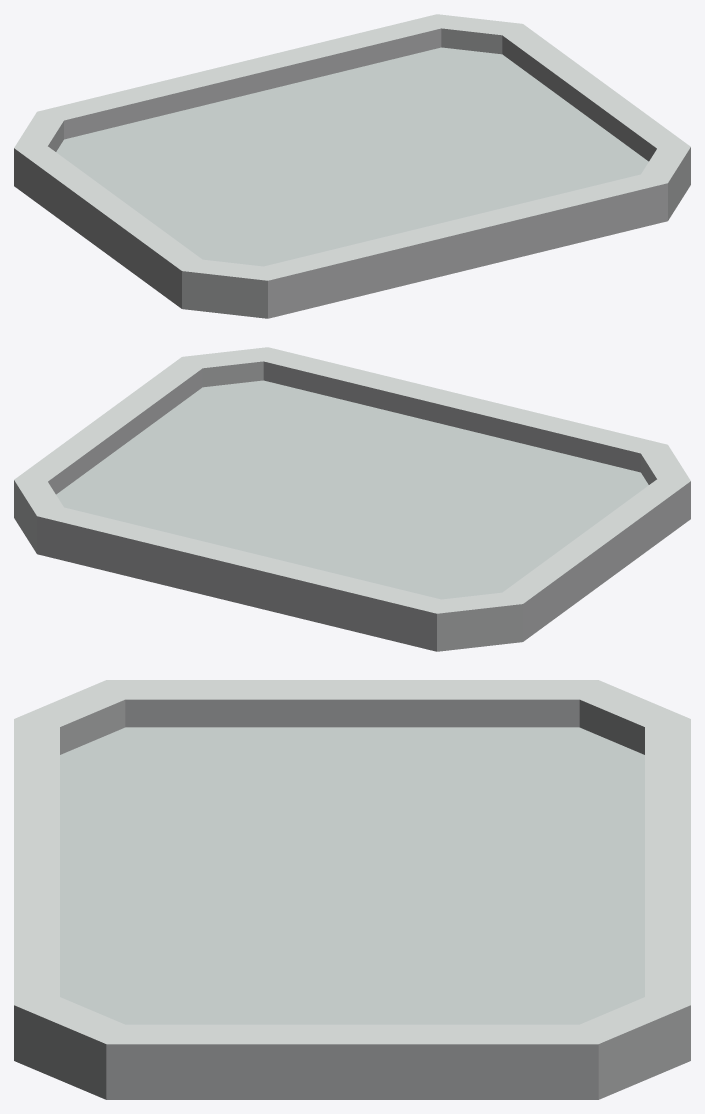
The model's file is Tray_Large.fbx.
The picture shows the model from 3 angles, top to bottom: view 1: azimuth 30°, elevation 25°; view 2: azimuth 150°, elevation 25°; view 3: azimuth 270°, elevation 25°; orthographic projection. The views are drawn at different scales.
Visible parts, largest first — view 1: Tray_Large; view 2: Tray_Large; view 3: Tray_Large.
Part boxes in pixels (bbox=[...]): Tray_Large: bbox=[14, 14, 690, 318]; Tray_Large: bbox=[14, 347, 690, 651]; Tray_Large: bbox=[14, 680, 690, 1099].
Size of the model in its own units: 55.12 by 3.94 by 43.31.
